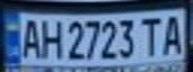2: (100, 17, 121, 61), (63, 17, 84, 61)
3: (115, 16, 139, 60)
7: (81, 17, 103, 61)
A: (160, 11, 187, 56), (15, 16, 42, 60)
H: (36, 16, 63, 60)
T: (136, 14, 163, 57)
